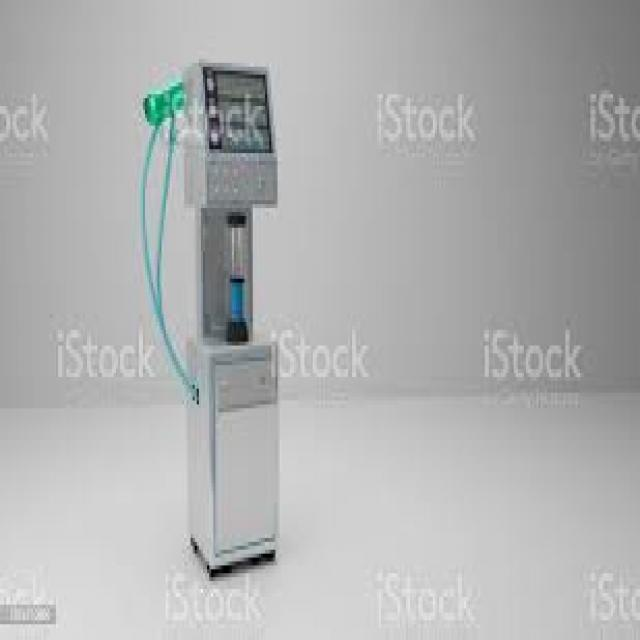ventilator: (129, 27, 333, 571)
